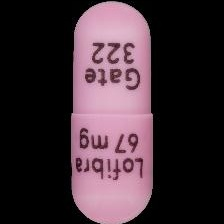57844-322: (0, 0, 224, 224)
